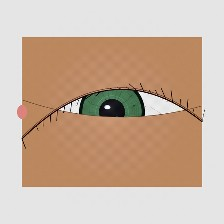pinguecula_lesion: (164, 104, 195, 130)
